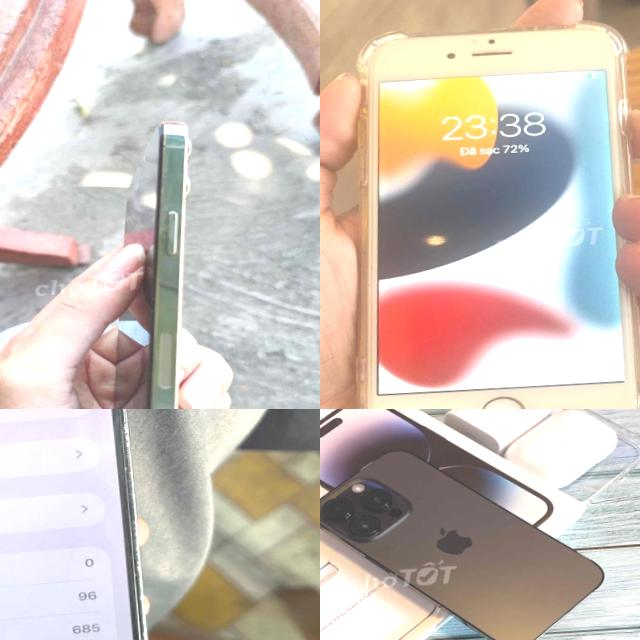gen_12_13: (85, 119, 220, 409)
gen_14: (320, 432, 617, 640), (0, 409, 162, 640)
gen_6: (353, 15, 640, 409)
scratch: (104, 409, 160, 640)
